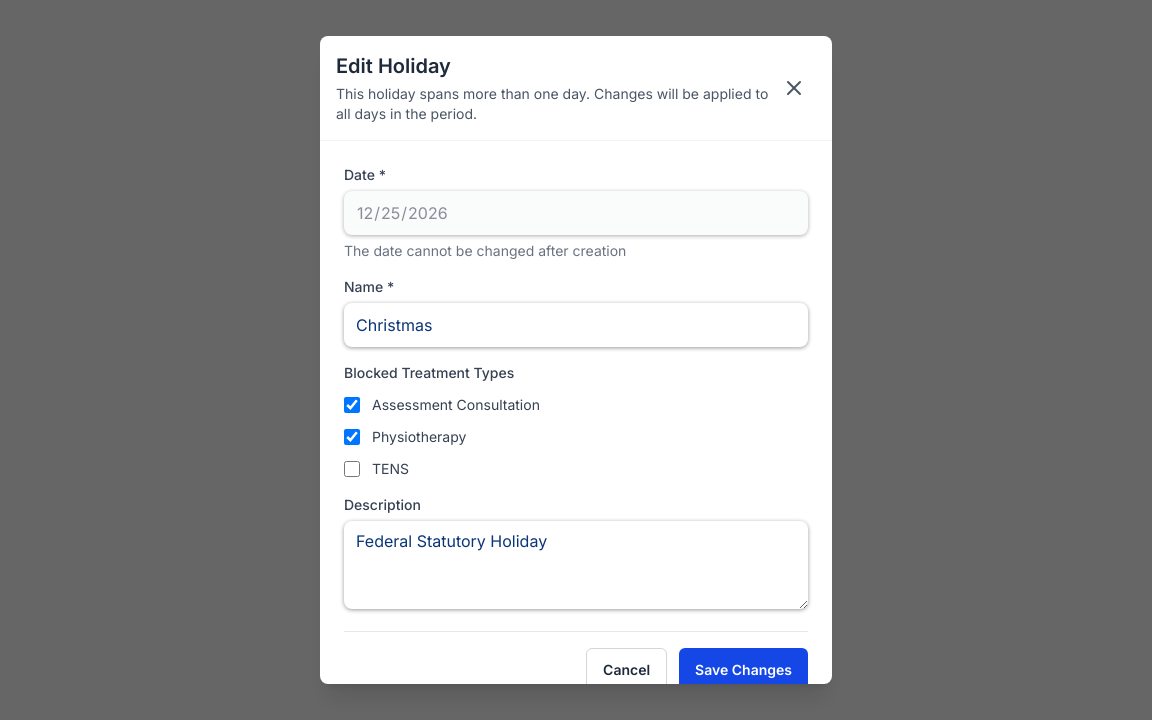
Test case: HolidayFormModal › Holiday Group Updates › handles group update error correctly
Replace the text in the field labelled "Name *" with "Updated Holiday Name" at (576, 325), box x1=344 y1=303 x2=808 y2=347
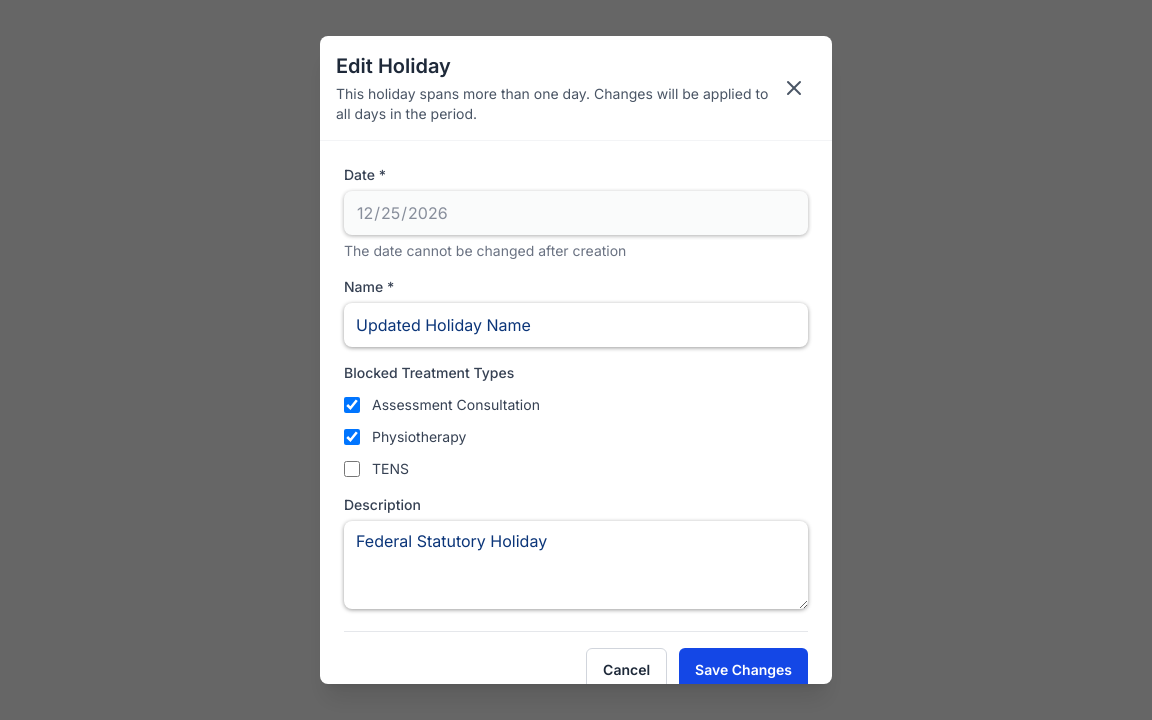
Click the button "Save Changes".
click(744, 670)  # box x1=679 y1=648 x2=808 y2=692
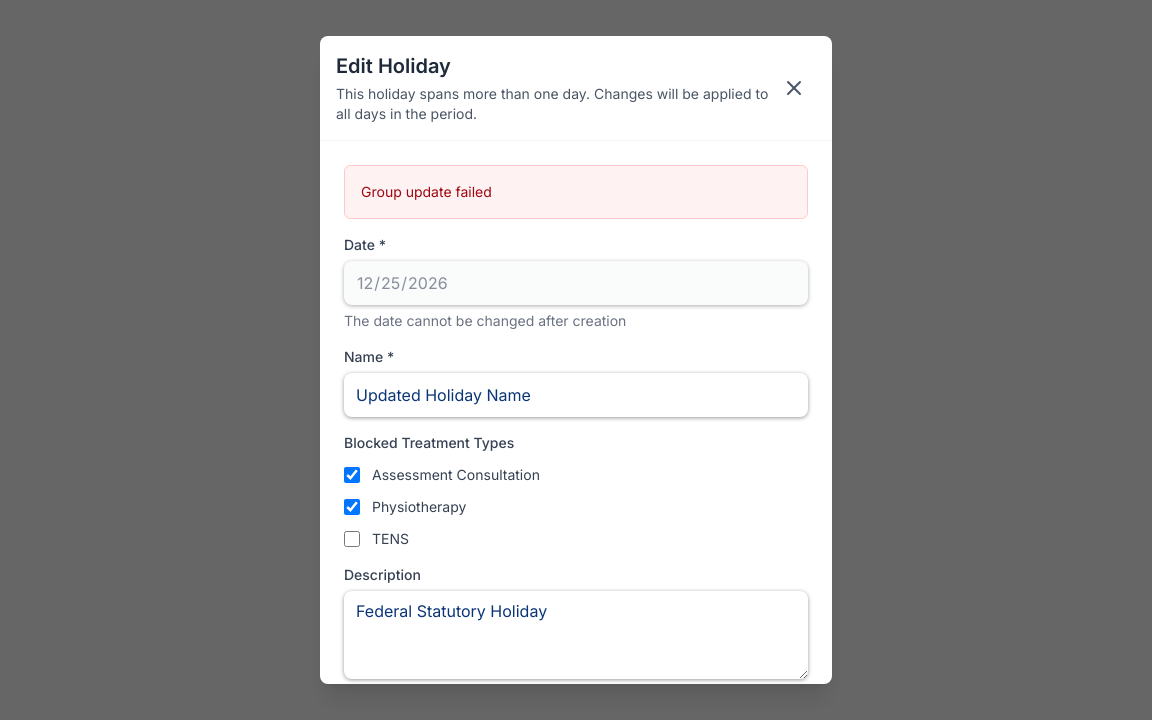
Result: the text "Group update failed" is shown at x1=361 y1=183 x2=492 y2=200
